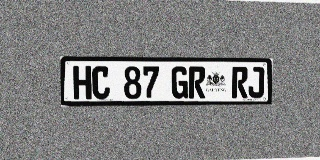7: (142, 66, 159, 99)
8: (124, 66, 141, 99)
C: (92, 66, 110, 99)
G: (171, 66, 188, 99)
H: (73, 66, 91, 99)
J: (248, 67, 264, 98)
R: (189, 66, 205, 98), (232, 67, 248, 98)
